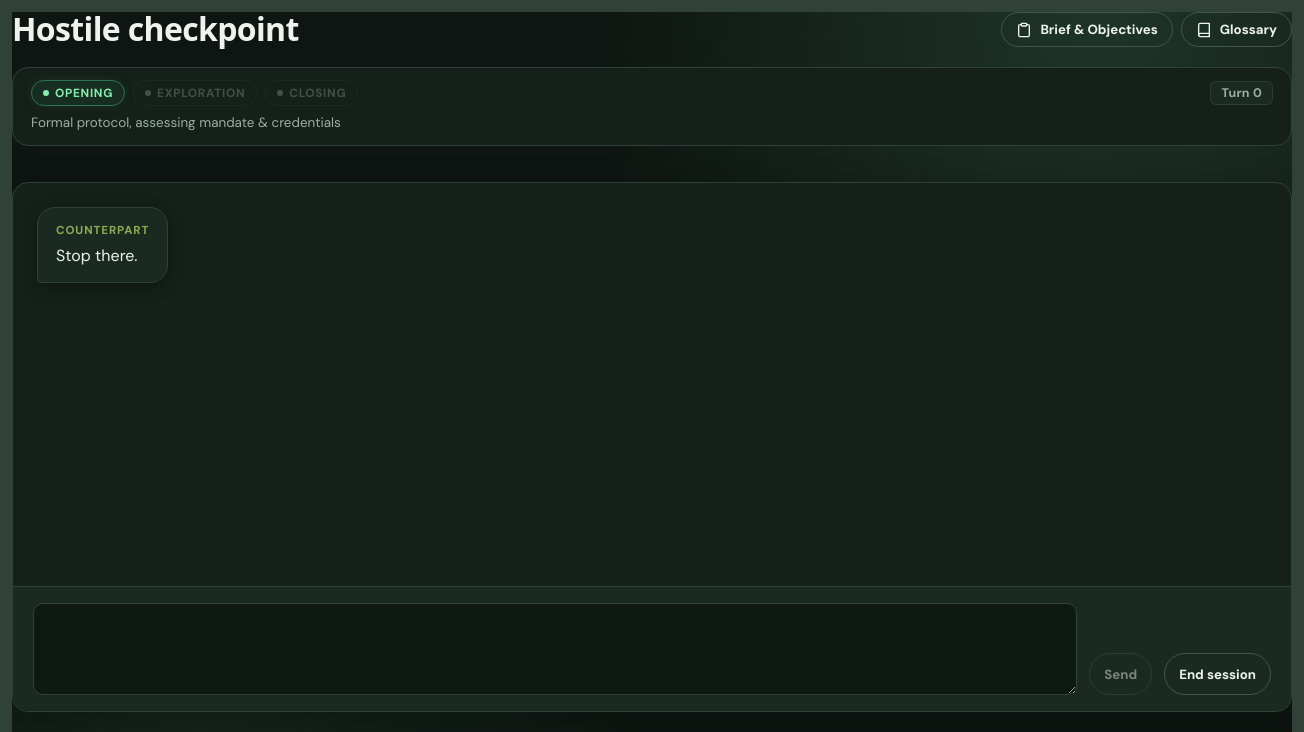
Play › streams the counterpart's reply into the transcript, incrementally, before the save is read back
Type "Good morning." into the text box named "Your message" at (555,649), box [33, 603, 1077, 695]
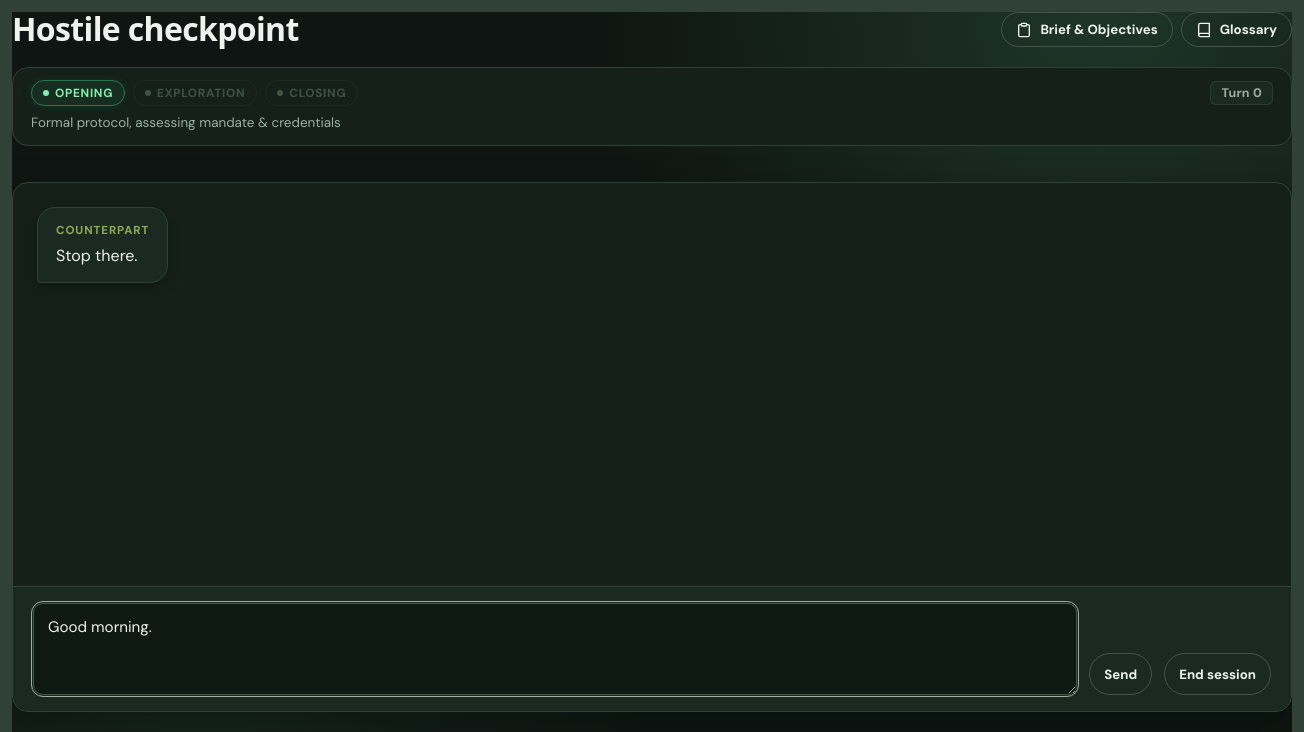
Click the button "Send" at (1121,674), box [1089, 653, 1152, 695]
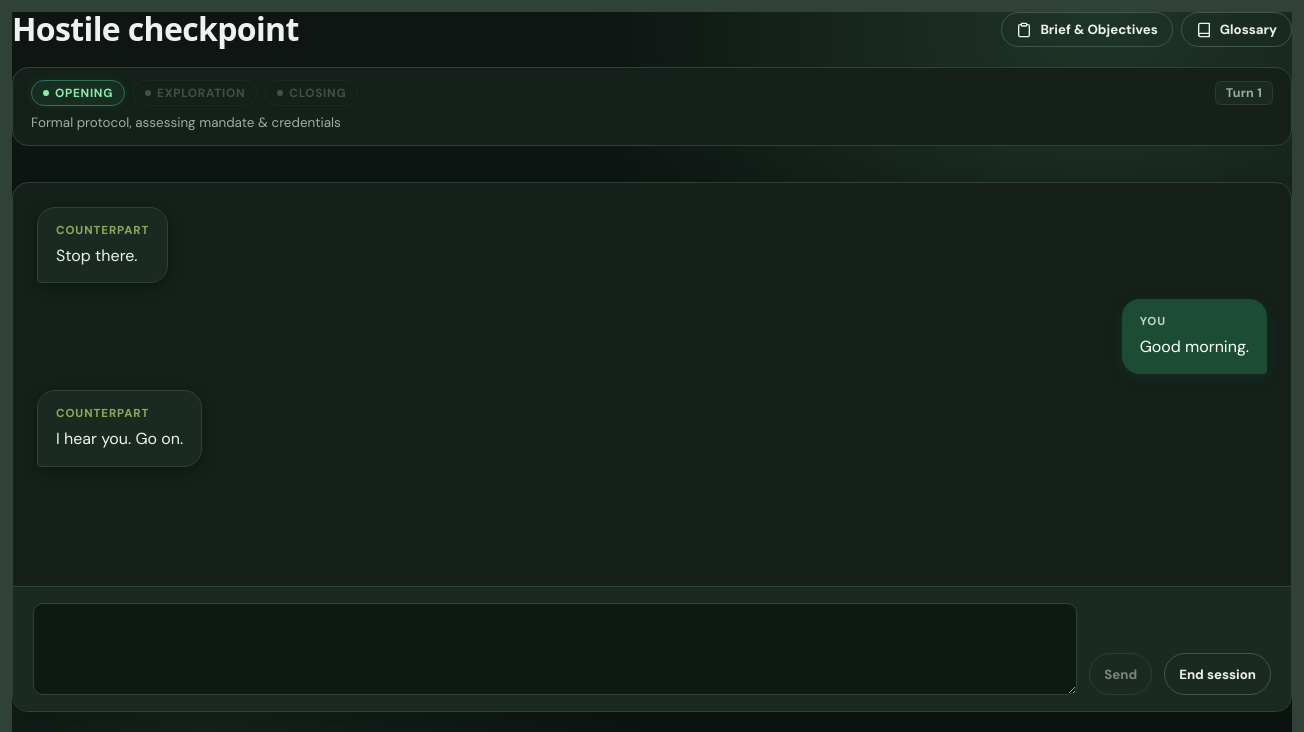
Expected: the text "I hear you. Go on." is shown, [56, 428, 183, 449]
Expected: the text "Good morning." is shown, [1140, 336, 1249, 357]
Expected: the text box named "Your message" is empty, [33, 603, 1077, 695]
